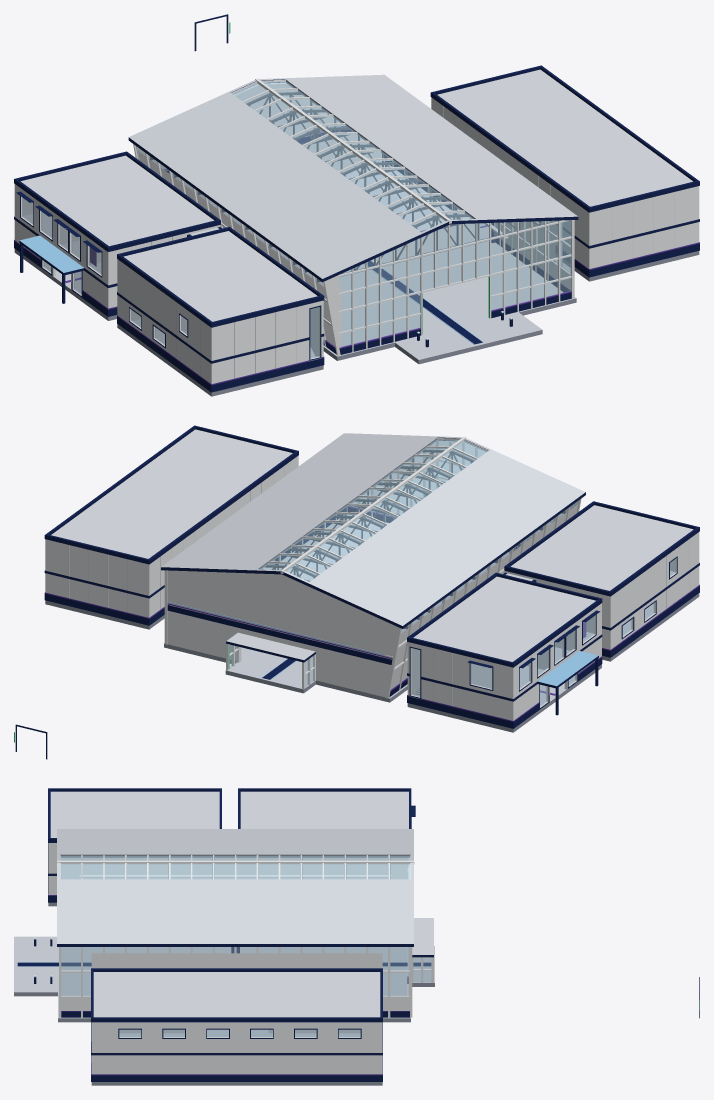
Rendered from LLASO_Facility.obj.
3 views of the same model, one above another, from view 1: azimuth 30°, elevation 25°; view 2: azimuth 150°, elevation 25°; view 3: azimuth 270°, elevation 25° (orthographic). The views are drawn at different scales.
Visible parts, largest first — view 1: LLASO_Facility, LLASO_Room_RobotHangar, LLASO_Room_IDK, LLASO_Room_EntranceLobby; view 2: LLASO_Facility, LLASO_Room_RobotHangar, LLASO_Room_EntranceLobby, LLASO_Room_IDK, LLASO_L2_Slab; view 3: LLASO_Facility, LLASO_Room_RobotHangar, LLASO_Room_IDK, LLASO_Room_EntranceLobby.
Boxes of the visible parts, x1,y1,x2,y2 form: LLASO_Facility: (128, 74, 578, 364); LLASO_Room_RobotHangar: (430, 65, 699, 281); LLASO_Room_IDK: (117, 226, 324, 396); LLASO_Room_EntranceLobby: (14, 14, 230, 320); LLASO_Facility: (161, 433, 585, 702); LLASO_Room_RobotHangar: (44, 425, 298, 629); LLASO_Room_EntranceLobby: (14, 572, 602, 759); LLASO_Room_IDK: (504, 501, 699, 661); LLASO_L2_Slab: (472, 571, 674, 688); LLASO_Facility: (14, 829, 434, 1022); LLASO_Room_RobotHangar: (91, 968, 382, 1085); LLASO_Room_IDK: (48, 788, 221, 906); LLASO_Room_EntranceLobby: (238, 788, 699, 1018).
Size of the model in its own units: 77.36 by 15.7 by 93.8.
